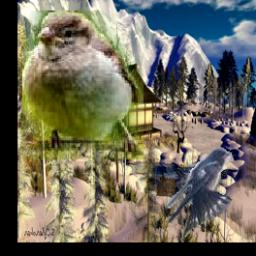Sparrow: (21, 10, 143, 160)
Swallow: (166, 148, 233, 239)
